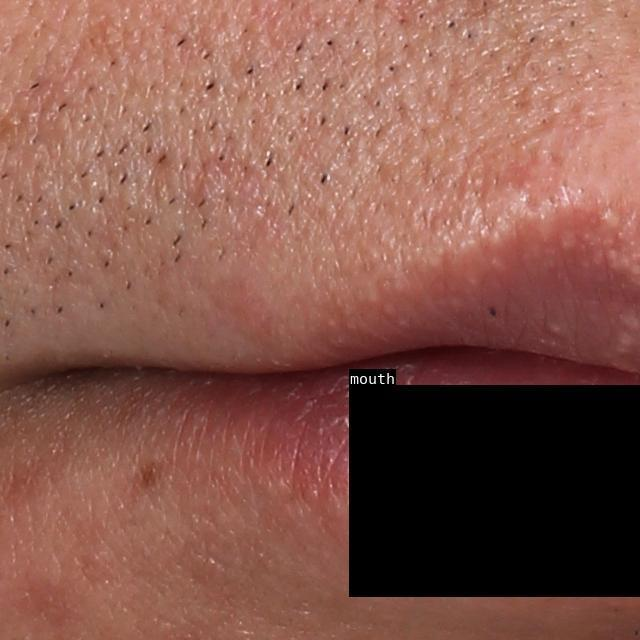nevus: (134, 454, 167, 492)
